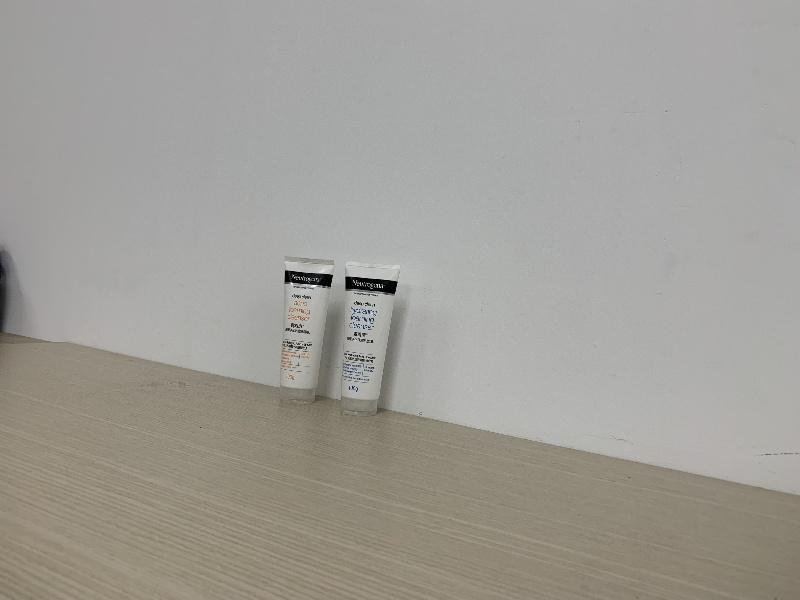AcneFoamingCleanser: (279, 255, 335, 405)
HydratingFoamingCleanser: (341, 261, 402, 416)
